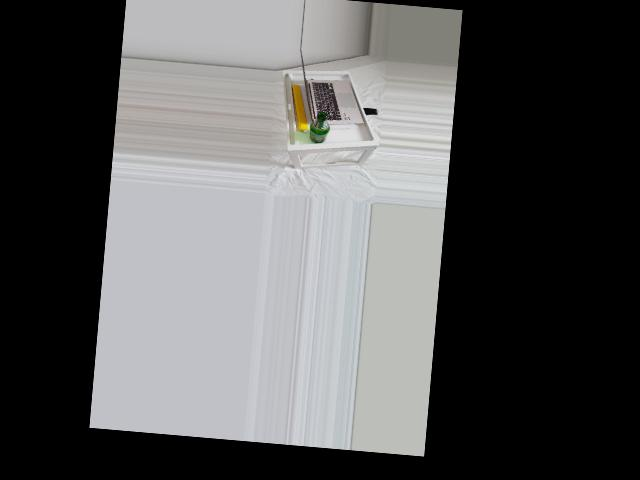beer: (308, 111, 330, 144)
